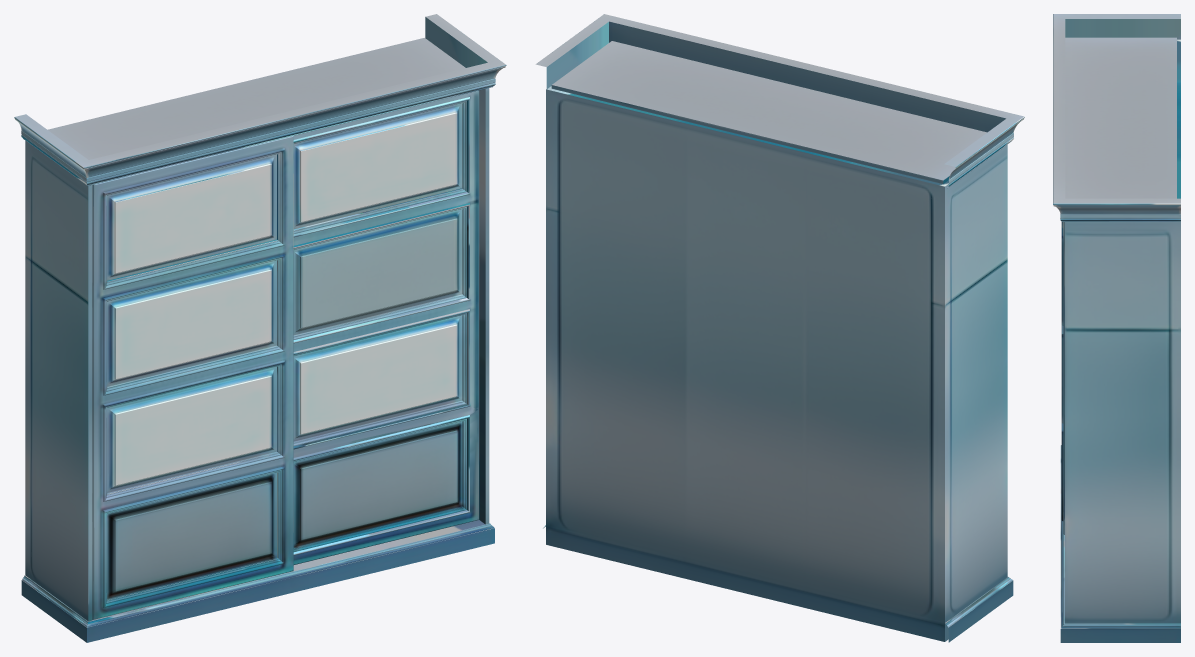
Rendered from edited_mesh.glb.
The picture shows the model from 3 angles, left to right: view 1: azimuth 30°, elevation 25°; view 2: azimuth 150°, elevation 25°; view 3: azimuth 270°, elevation 25°; orthographic projection. The views are drawn at different scales.
Parts seen in each view (by area): view 1: normalized_model.obj; view 2: normalized_model.obj; view 3: normalized_model.obj.
Boxes of the visible parts, x1=… form: normalized_model.obj: x1=14, y1=14, x2=506, y2=642; normalized_model.obj: x1=535, y1=14, x2=1024, y2=642; normalized_model.obj: x1=1053, y1=14, x2=1180, y2=642.
Bounding box in the file's own units: 1.26 × 1.37 × 0.359.
1 material, 1 textured.
